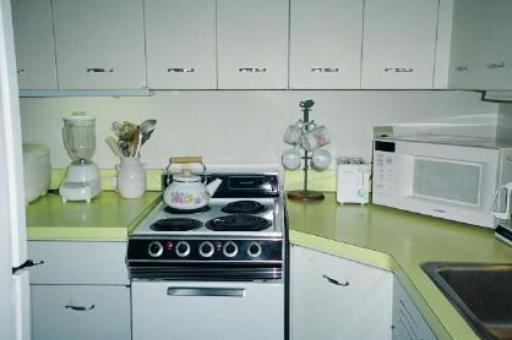Armario: (32, 229, 128, 340)
Electrodomestico: (133, 185, 280, 340), (0, 0, 19, 340)
Lavaplatos: (437, 262, 512, 340)
